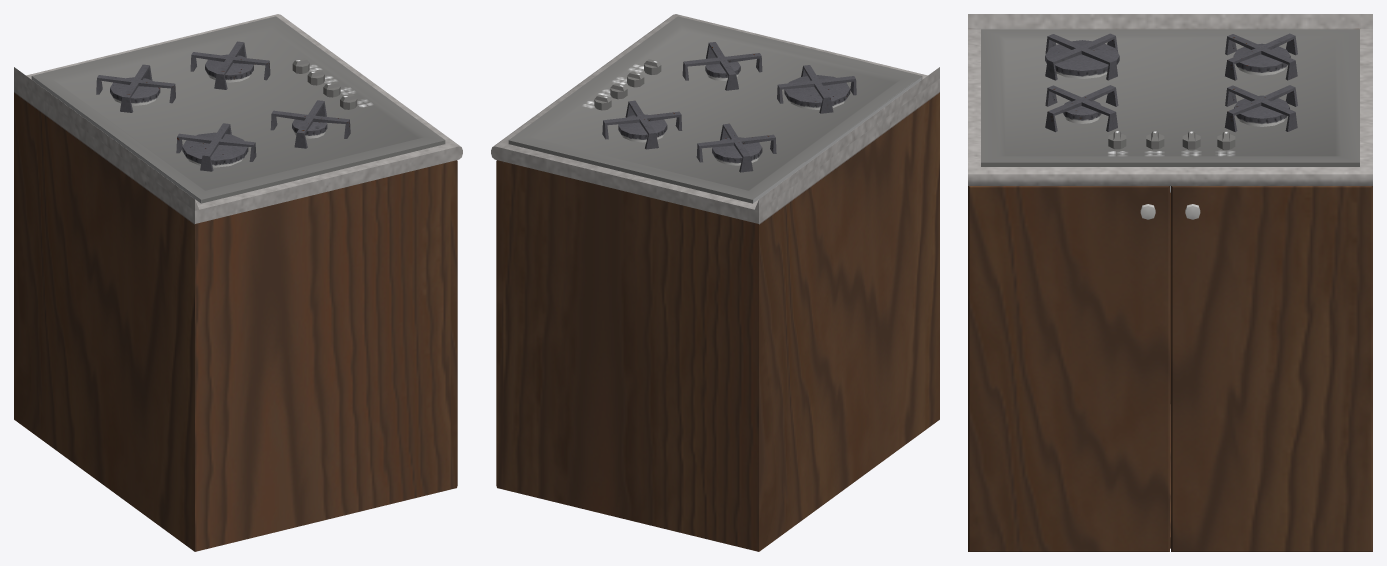
Rendered from CabinetWithStove.glb.
3 renders of one model, left to right at view 1: azimuth 30°, elevation 25°; view 2: azimuth 150°, elevation 25°; view 3: azimuth 270°, elevation 25°, orthographic. The views are drawn at different scales.
Visible parts, largest first — view 1: KitchenCabinetWithStove; view 2: KitchenCabinetWithStove; view 3: KitchenCabinetWithStove.
Part boxes in pixels (x1,y1,x2,y2): KitchenCabinetWithStove: (14,14,462,551); KitchenCabinetWithStove: (491,14,939,551); KitchenCabinetWithStove: (968,14,1372,551).
Bounding box in the file's own units: 0.6921 × 0.8728 × 0.8.
1 material, 1 textured.
